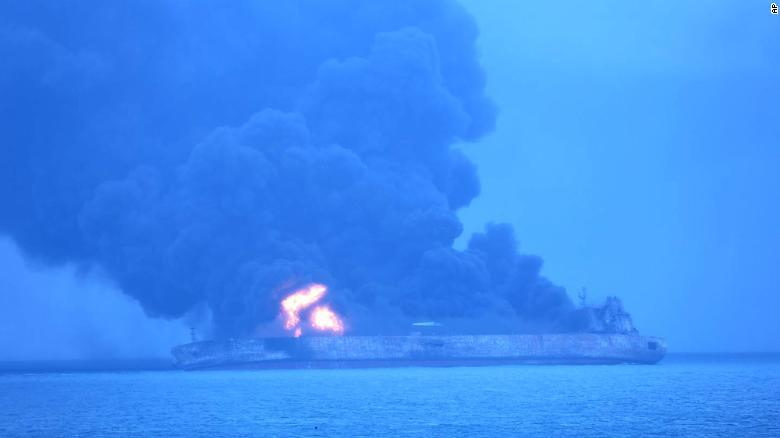fire: (284, 288, 343, 336)
